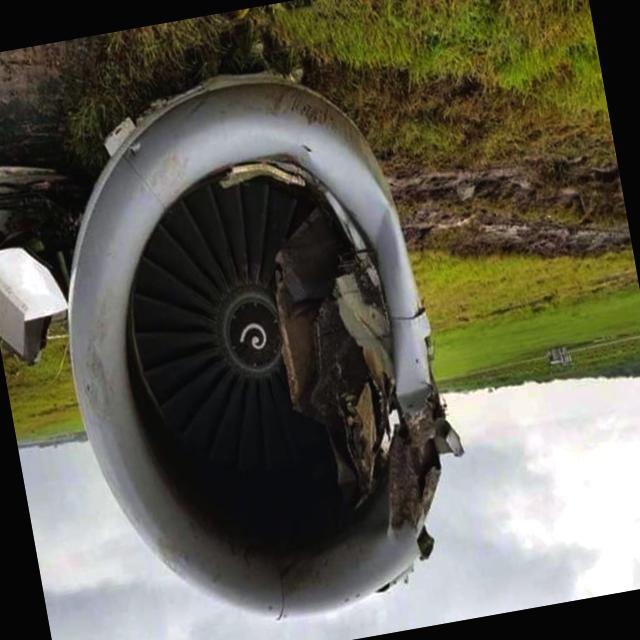dent: (354, 183, 411, 310), (389, 360, 436, 418)
